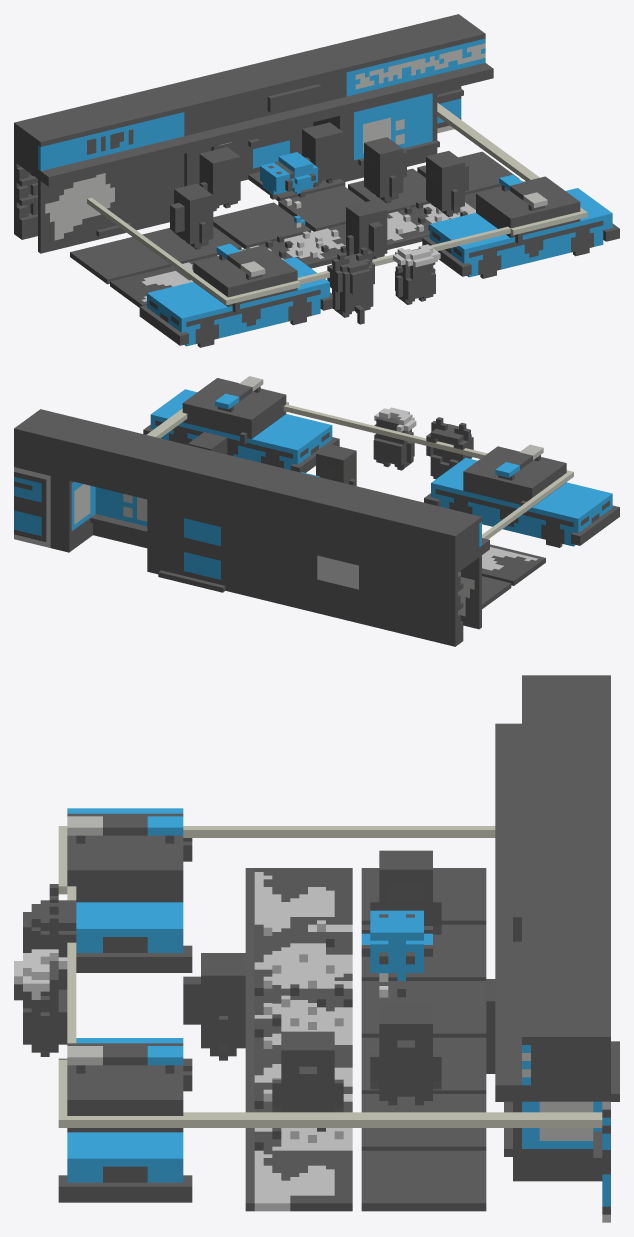
The model's file is scene_hazmat.obj.
3 renders of one model, top to bottom at view 1: azimuth 30°, elevation 25°; view 2: azimuth 150°, elevation 25°; view 3: azimuth 270°, elevation 25°, orthographic. The views are drawn at different scales.
Bounding box in the file's own units: 96 × 23 × 68.
